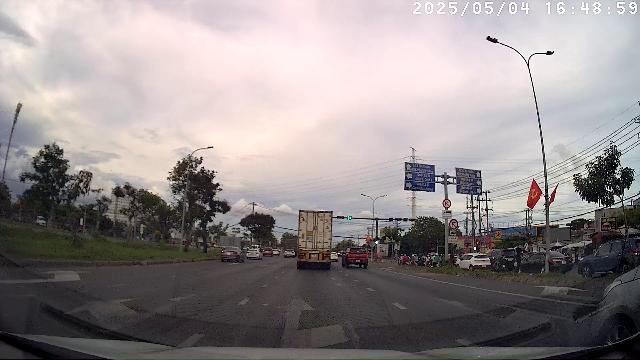123b-cam-re-phai: (450, 219, 458, 229), (442, 200, 452, 208)
